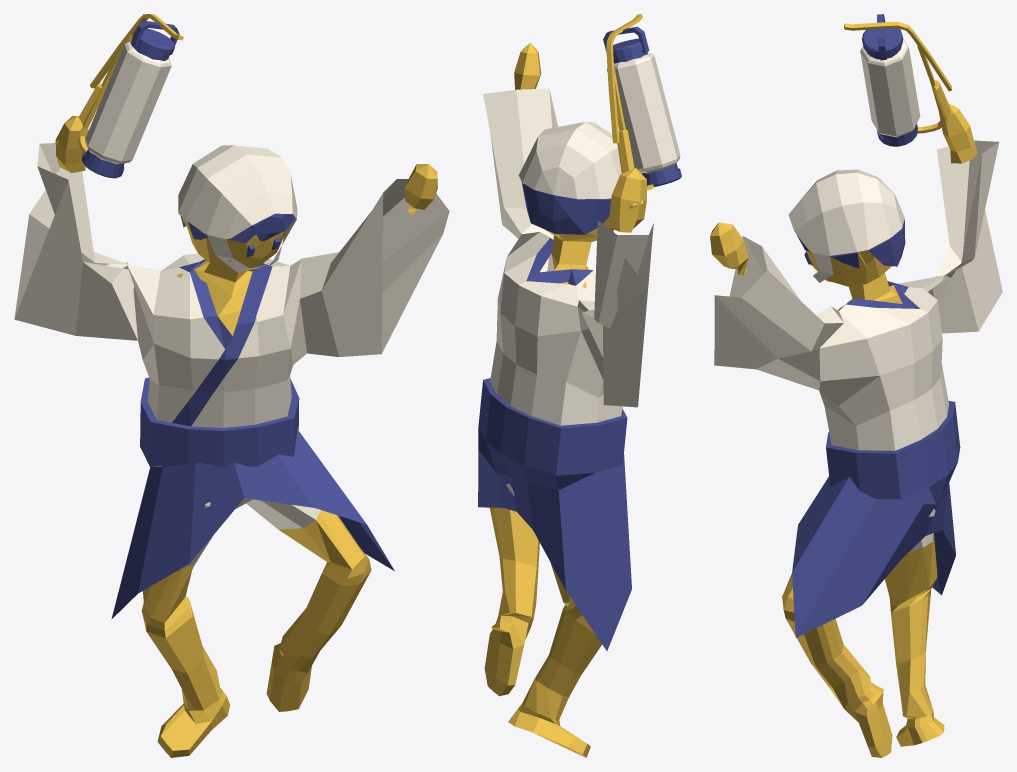
File: 119_阿波踊り006.glb
The picture shows the model from 3 angles, left to right: view 1: azimuth 30°, elevation 25°; view 2: azimuth 150°, elevation 25°; view 3: azimuth 270°, elevation 25°; orthographic projection. The views are drawn at different scales.
Visible parts, largest first — view 1: 立方体078_3, 立方体078, 立方体078_1, 立方体078_2, 立方体078_4; view 2: 立方体078_3, 立方体078, 立方体078_1, 立方体078_2, 立方体078_4; view 3: 立方体078_3, 立方体078, 立方体078_1, 立方体078_2, 立方体078_4.
Boxes of the visible parts, x1,y1,x2,y2 form: 立方体078_3: (14, 42, 449, 567); 立方体078: (111, 213, 394, 619); 立方体078_1: (55, 14, 371, 757); 立方体078_2: (55, 116, 437, 214); 立方体078_4: (81, 20, 179, 178); 立方体078_3: (483, 52, 680, 495); 立方体078: (478, 182, 631, 651); 立方体078_1: (484, 14, 654, 757); 立方体078_2: (514, 43, 646, 232); 立方体078_4: (603, 26, 681, 186); 立方体078_3: (714, 38, 1002, 552); 立方体078: (792, 219, 960, 637); 立方体078_1: (782, 21, 952, 757); 立方体078_2: (710, 104, 977, 275); 立方体078_4: (862, 14, 917, 146).
Size of the model in its own units: 1.05 by 2.57 by 0.9614.
